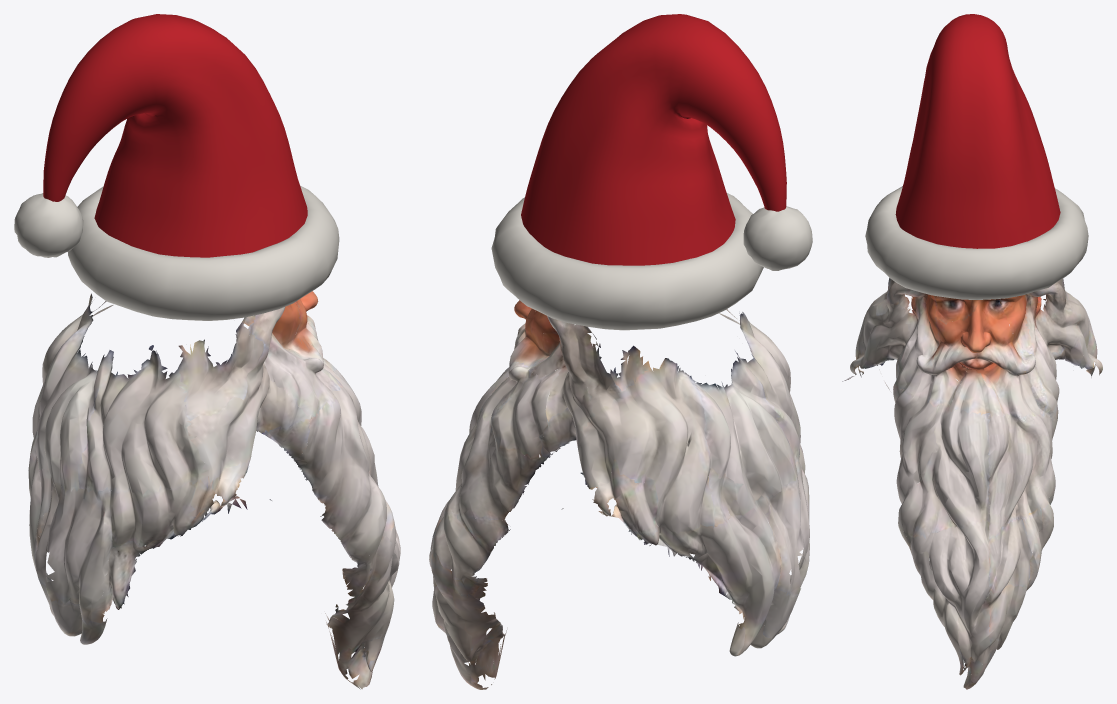
The model's file is natural-santa-v2.glb.
The picture shows the model from 3 angles, left to right: view 1: azimuth 30°, elevation 25°; view 2: azimuth 150°, elevation 25°; view 3: azimuth 270°, elevation 25°; orthographic projection. The views are drawn at different scales.
Parts seen in each view (by area): view 1: santa-natural-head, santa-hat-cloth, santa-hat-fur; view 2: santa-natural-head, santa-hat-cloth, santa-hat-fur; view 3: santa-natural-head, santa-hat-cloth, santa-hat-fur.
Part boxes in pixels (left/top/right/bottom): santa-natural-head: left=28, top=291, right=400, bottom=689; santa-hat-cloth: left=43, top=14, right=307, bottom=257; santa-hat-fur: left=14, top=186, right=339, bottom=320; santa-natural-head: left=429, top=300, right=809, bottom=689; santa-hat-cloth: left=521, top=14, right=786, bottom=265; santa-hat-fur: left=491, top=193, right=812, bottom=330; santa-natural-head: left=842, top=278, right=1102, bottom=689; santa-hat-cloth: left=895, top=14, right=1060, bottom=248; santa-hat-fur: left=865, top=186, right=1088, bottom=299.
Size of the model in its own units: 0.6391 by 1.16 by 0.4719.
Materials: 3 (1 with a texture image).
